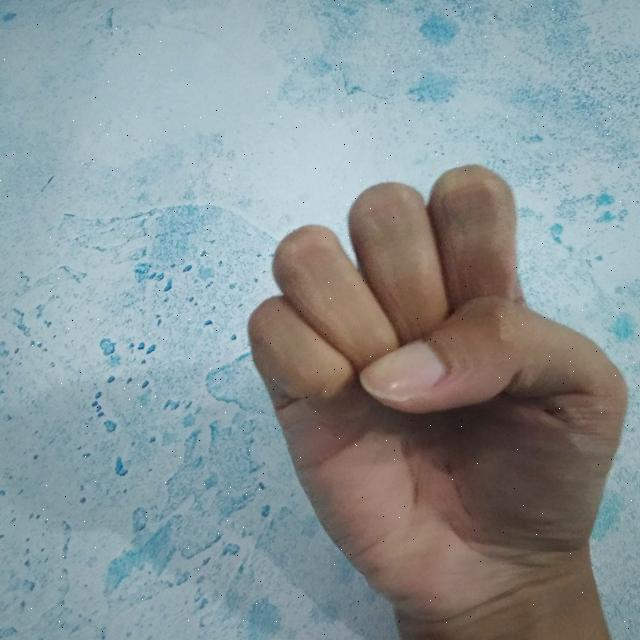S: (241, 145, 634, 640)
